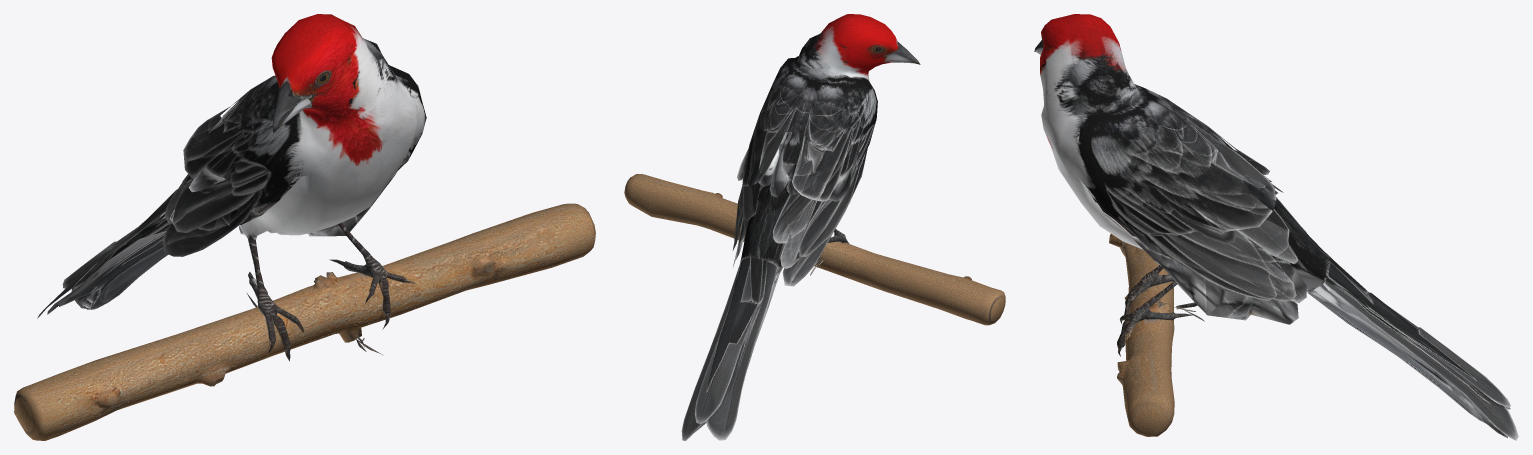
Rendered from galo_de_campina_novo.glb.
The picture shows the model from 3 angles, left to right: view 1: azimuth 30°, elevation 25°; view 2: azimuth 150°, elevation 25°; view 3: azimuth 270°, elevation 25°; orthographic projection. The views are drawn at different scales.
Size of the model in its own units: 0.9575 by 0.7681 by 0.8105.
1 material, 1 textured.
